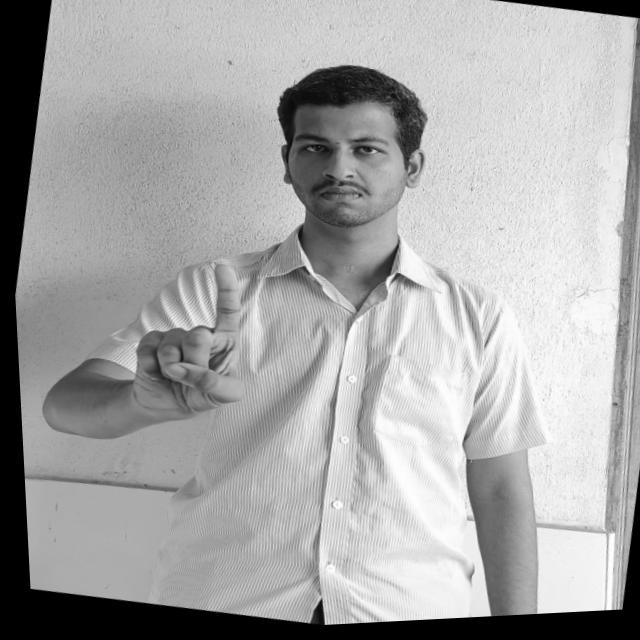Question: (112, 245, 270, 432)
